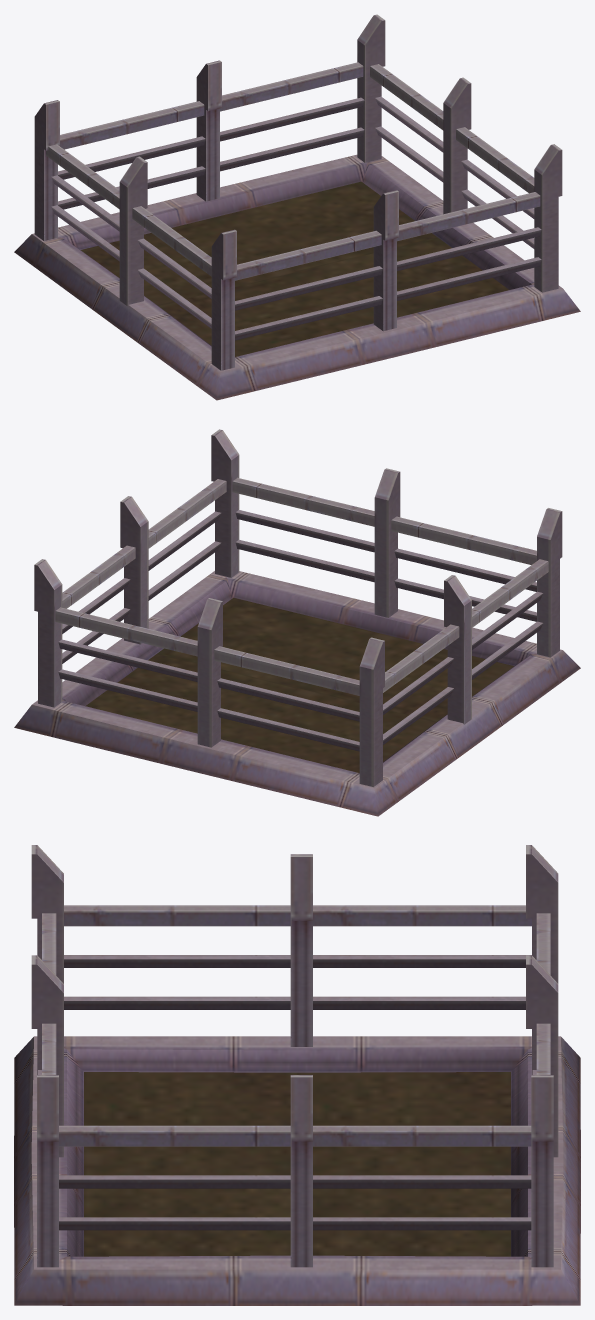
The model's file is zc_lekesigang_langan03.FBX.
3 renders of one model, top to bottom at view 1: azimuth 30°, elevation 25°; view 2: azimuth 150°, elevation 25°; view 3: azimuth 270°, elevation 25°, orthographic. The views are drawn at different scales.
Parts seen in each view (by area): view 1: zc_lekesigang_langan03; view 2: zc_lekesigang_langan03; view 3: zc_lekesigang_langan03.
Boxes of the visible parts, left/top/right/bottom form: zc_lekesigang_langan03: left=14, top=14, right=580, bottom=400; zc_lekesigang_langan03: left=14, top=429, right=580, bottom=816; zc_lekesigang_langan03: left=14, top=845, right=580, bottom=1305.
Bounding box in the file's own units: 274 × 114 × 264.
1 material, 1 textured.
